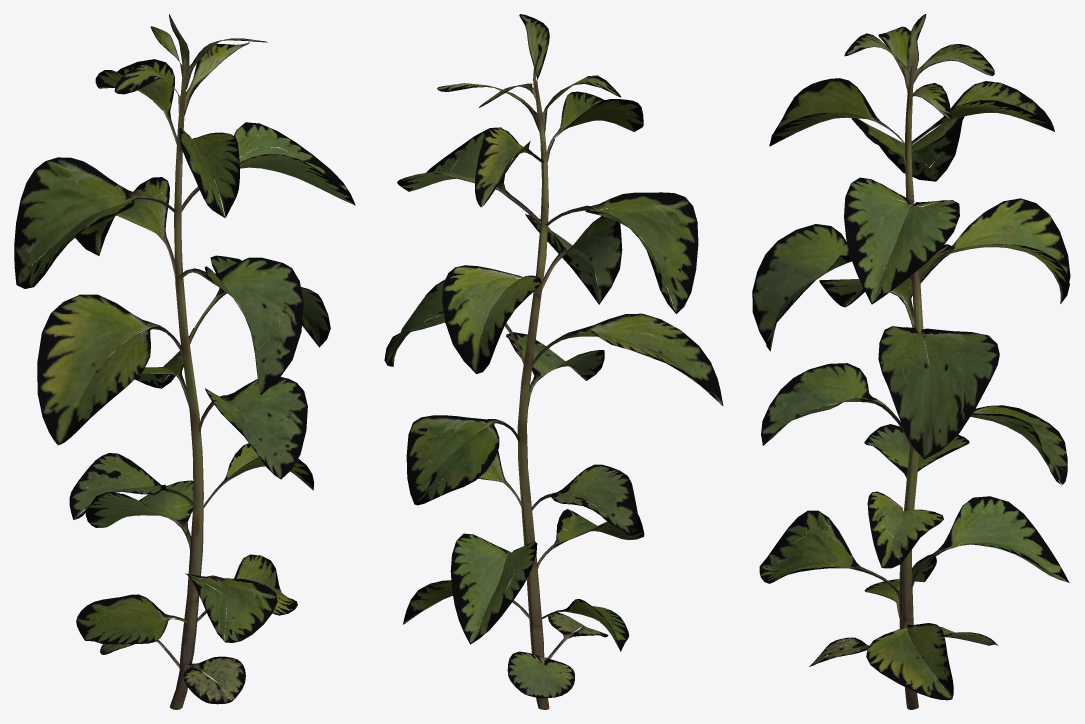
The model's file is nettle_plant_tall_a.glb.
The picture shows the model from 3 angles, left to right: view 1: azimuth 30°, elevation 25°; view 2: azimuth 150°, elevation 25°; view 3: azimuth 270°, elevation 25°; orthographic projection. The views are drawn at different scales.
Parts seen in each view (by area): view 1: nettle_plant_tall_a_LOD0; view 2: nettle_plant_tall_a_LOD0; view 3: nettle_plant_tall_a_LOD0.
Boxes of the visible parts, bbox=[...] form: nettle_plant_tall_a_LOD0: bbox=[14, 14, 355, 709]; nettle_plant_tall_a_LOD0: bbox=[384, 14, 723, 709]; nettle_plant_tall_a_LOD0: bbox=[752, 14, 1070, 709].
Size of the model in its own units: 0.1036 by 0.2167 by 0.0901.
1 material, 1 textured.
